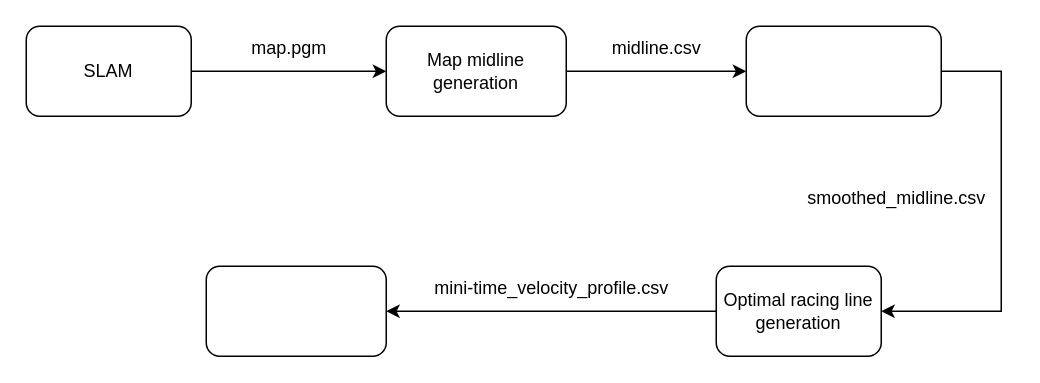
Some shapes in this 1040 by 383 pixel diagram are drawn without their labels. Here are the shapes that lost their labels. From the top down, the box of each, then its label:
(745, 25, 941, 116): Spline smoothing
(205, 265, 386, 356): MPC + LQR
